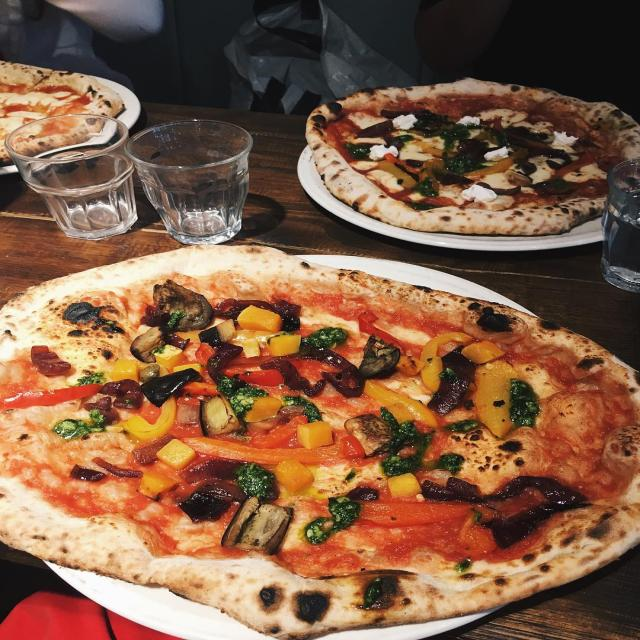basil: (378, 406, 437, 479), (303, 495, 363, 546), (500, 376, 550, 430), (232, 459, 282, 502), (220, 374, 264, 421), (52, 407, 108, 443), (282, 392, 326, 424), (300, 325, 348, 353), (436, 451, 466, 476), (443, 417, 479, 436), (76, 369, 107, 390), (164, 312, 185, 332)
pizza: (0, 246, 637, 639)
